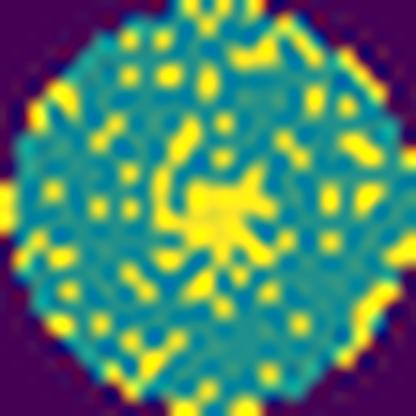Center: (149, 117, 297, 315)
